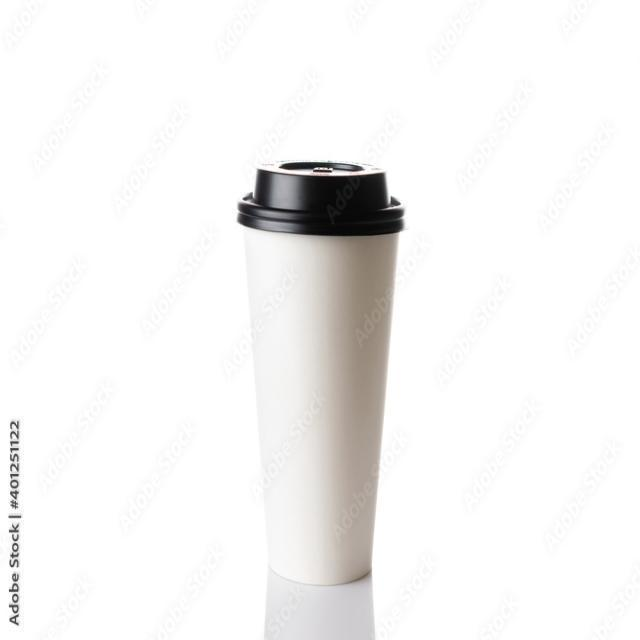Cup: (234, 157, 407, 587)
